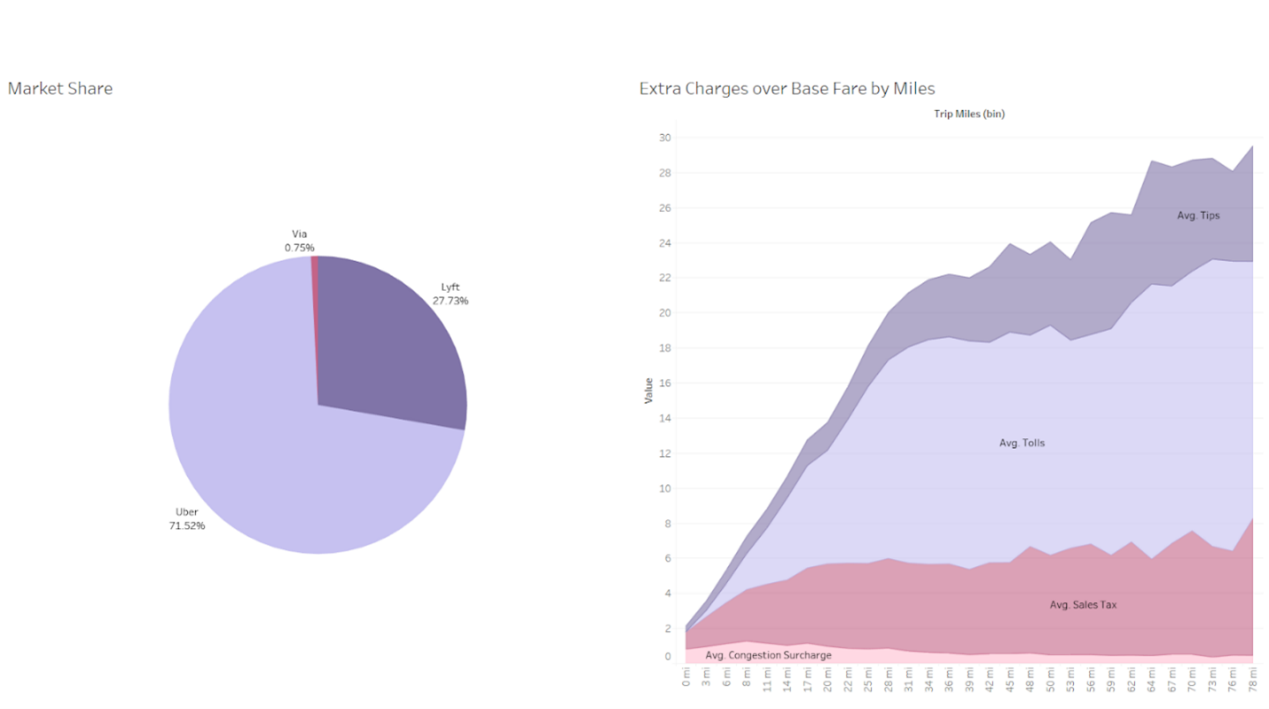

What the dashboard file says about the page in this screenshot:
{"tool":"tableau","page":{"name":"Dashboard 2","canvas":[1920,1080],"ordinal":1},"visuals":[{"type":"text","box":[8,8,1904,107]},{"type":"worksheet","title":"Market Share","mark":"Pie","box":[8,115,952,957]},{"type":"worksheet","title":"Average Tip by Distance","mark":"Area","cols":["Trip Miles (bin)"],"box":[960,115,952,957]}]}

Visuals, with their boxes in screenshot pixels (x1, y1, x2, y2), scaled from the page's 1920x1080 canvas onto the 1269x709 screenshot:
text: 5, 5, 1264, 75
"Market Share" worksheet (Pie marks): 5, 75, 634, 704
"Average Tip by Distance" worksheet (Area marks): 634, 75, 1264, 704
